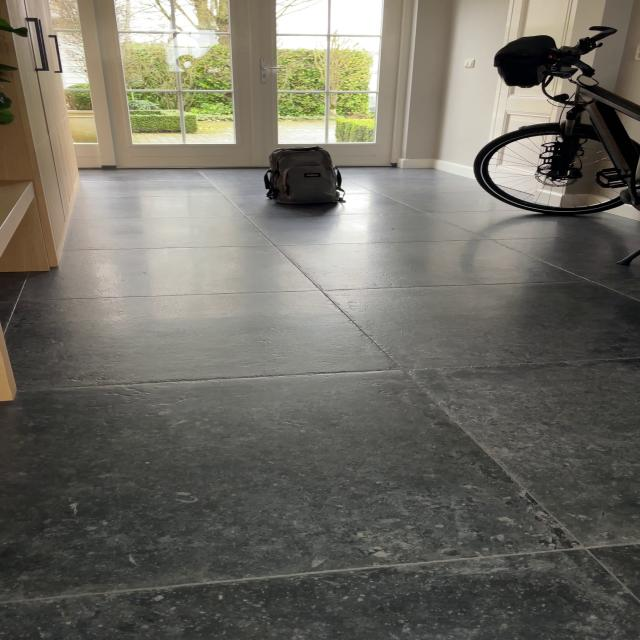backpack: (258, 144, 344, 208)
